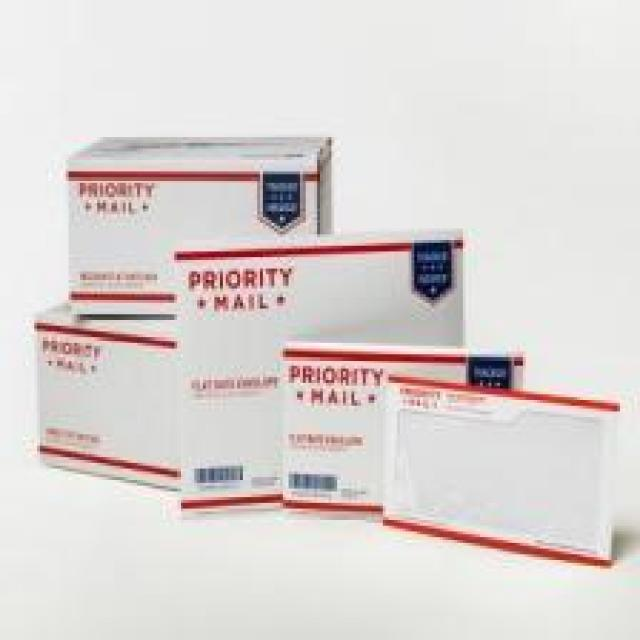box: (0, 0, 640, 558)
crushed: (152, 269, 347, 391)
